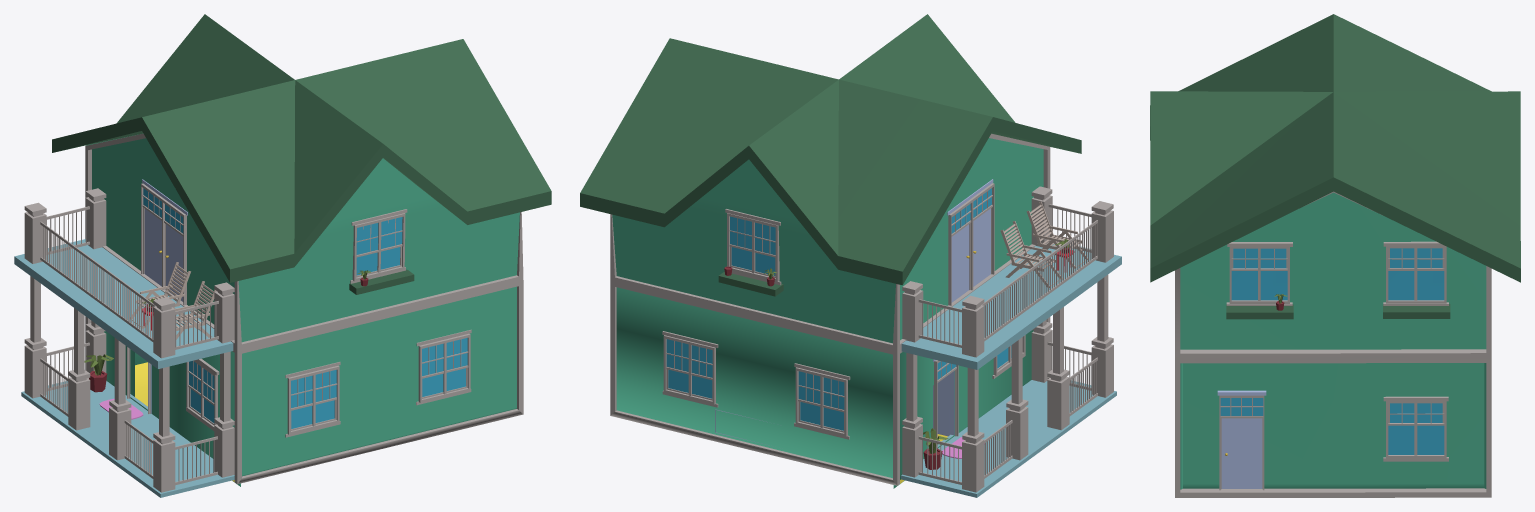
File: HOUSE 1 FINAL.fbx
The picture shows the model from 3 angles, left to right: view 1: azimuth 30°, elevation 25°; view 2: azimuth 150°, elevation 25°; view 3: azimuth 270°, elevation 25°; orthographic projection. The views are drawn at different scales.
Visible parts, largest first — view 1: HOUSE; view 2: HOUSE; view 3: HOUSE.
Boxes of the visible parts, <box> form: HOUSE: <box>14,14,551,497</box>; HOUSE: <box>580,14,1121,497</box>; HOUSE: <box>1150,14,1520,497</box>.
Size of the model in its own units: 976 by 804 by 797.
12 materials, 2 textured.
